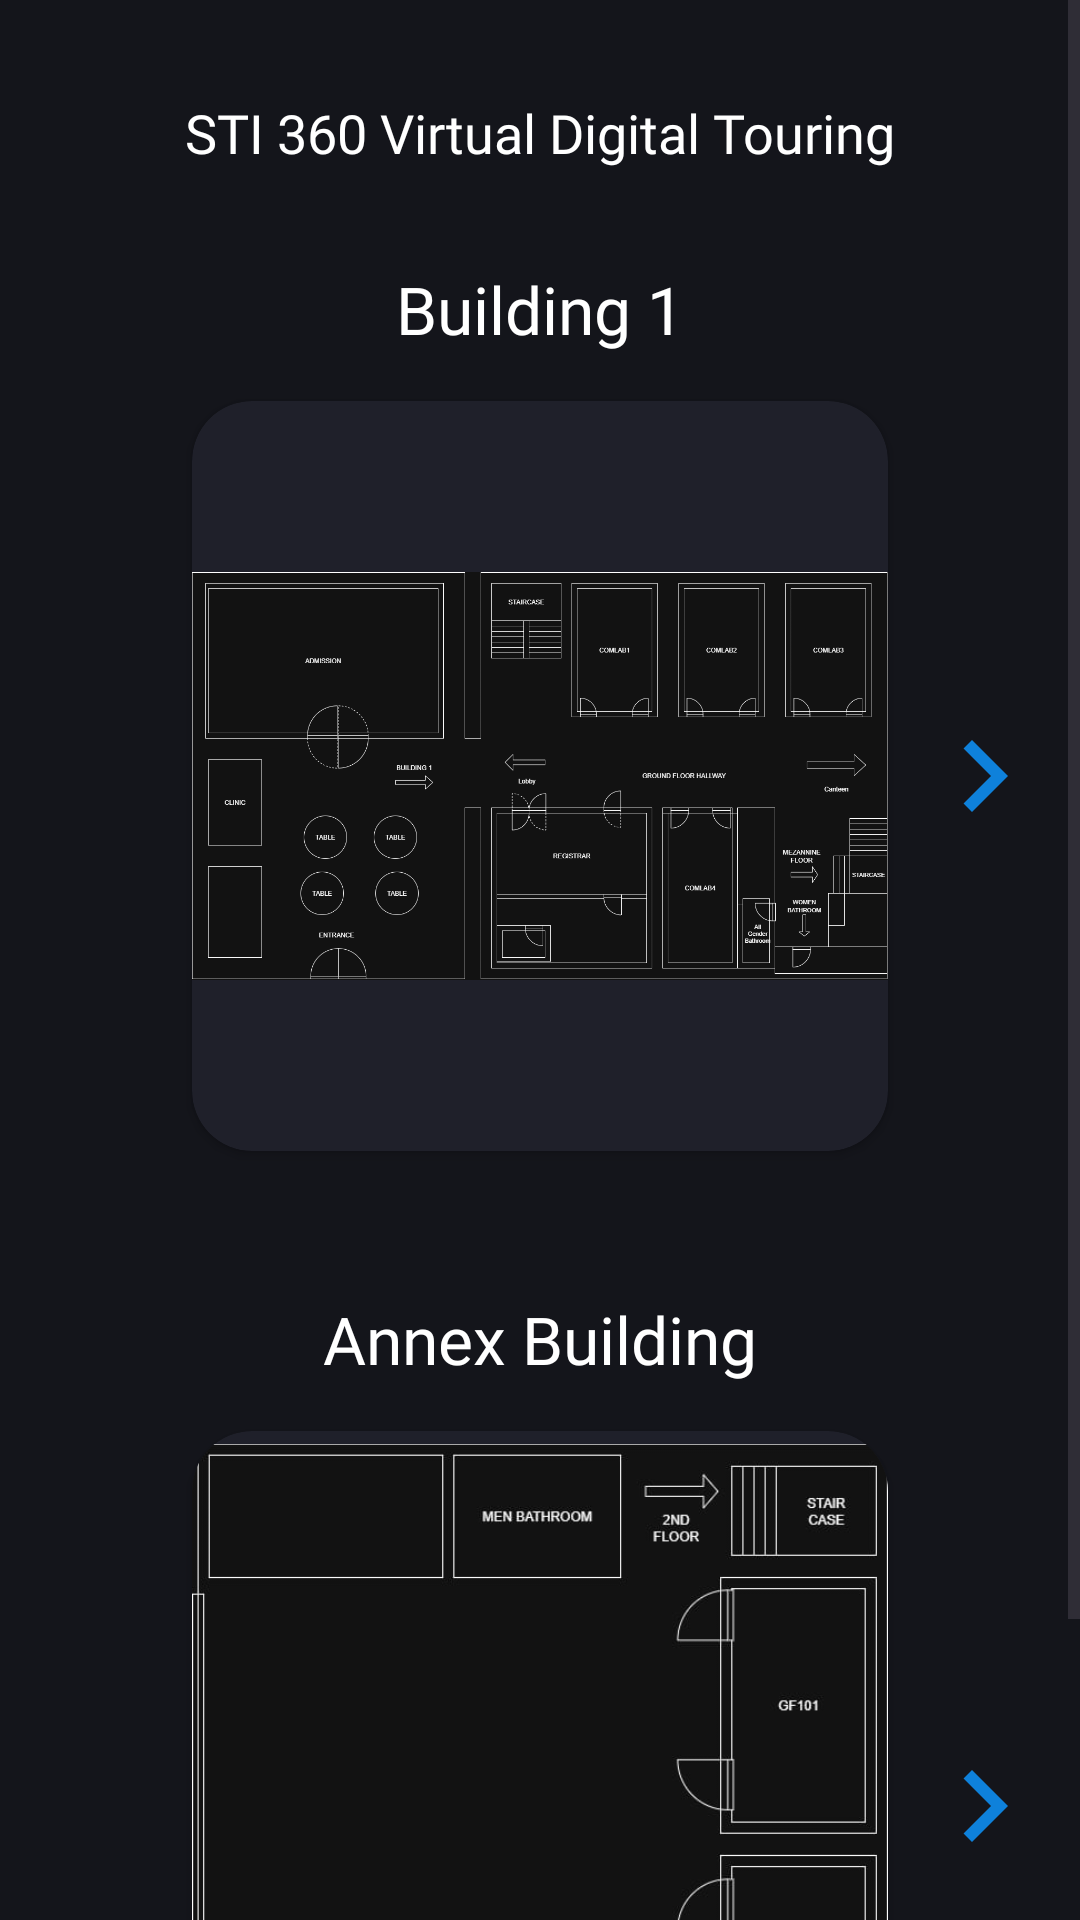

Icons on this 1080×1920 Android screen, each with its box as (x1, y1, x2, y2):
arrow forward: (963, 740, 1008, 812), (963, 1770, 1008, 1842)
